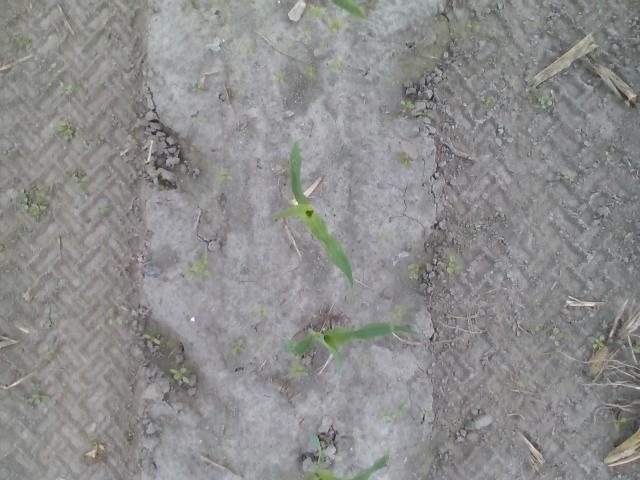Maize: (270, 142, 354, 304), (280, 320, 419, 376), (302, 427, 389, 480), (328, 0, 368, 22)
Weeds: (13, 184, 48, 222), (520, 84, 556, 112), (52, 118, 88, 146), (533, 321, 565, 349), (376, 402, 410, 422), (168, 366, 192, 386), (188, 250, 209, 272), (12, 29, 32, 51), (384, 304, 408, 322), (27, 380, 42, 407), (228, 334, 246, 354), (40, 344, 58, 364), (272, 69, 292, 86), (140, 332, 162, 347), (326, 15, 344, 33), (215, 165, 230, 186), (466, 17, 484, 34), (289, 362, 305, 380), (326, 58, 342, 76), (398, 150, 414, 168), (305, 2, 325, 16), (614, 417, 630, 434), (594, 0, 612, 15), (407, 262, 422, 280), (240, 40, 256, 56), (414, 106, 434, 118), (446, 255, 458, 274), (591, 333, 605, 349), (98, 200, 110, 218), (300, 63, 314, 78), (386, 74, 402, 87), (58, 82, 72, 96), (70, 168, 82, 184), (399, 99, 414, 111), (191, 82, 204, 95), (358, 356, 370, 368), (304, 26, 314, 40), (256, 307, 270, 317), (480, 95, 492, 106), (462, 226, 475, 236), (624, 344, 640, 352), (604, 149, 614, 161), (381, 230, 392, 240), (564, 173, 574, 183), (87, 438, 97, 448), (528, 464, 538, 473)
